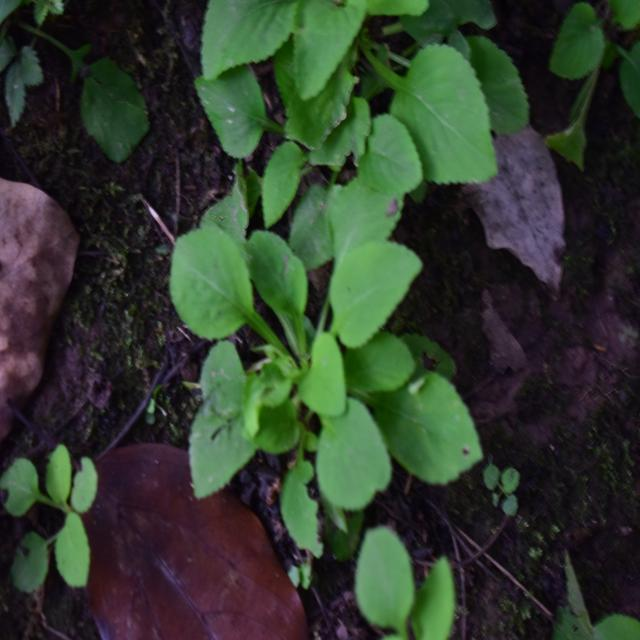Viola: (171, 177, 459, 532)
